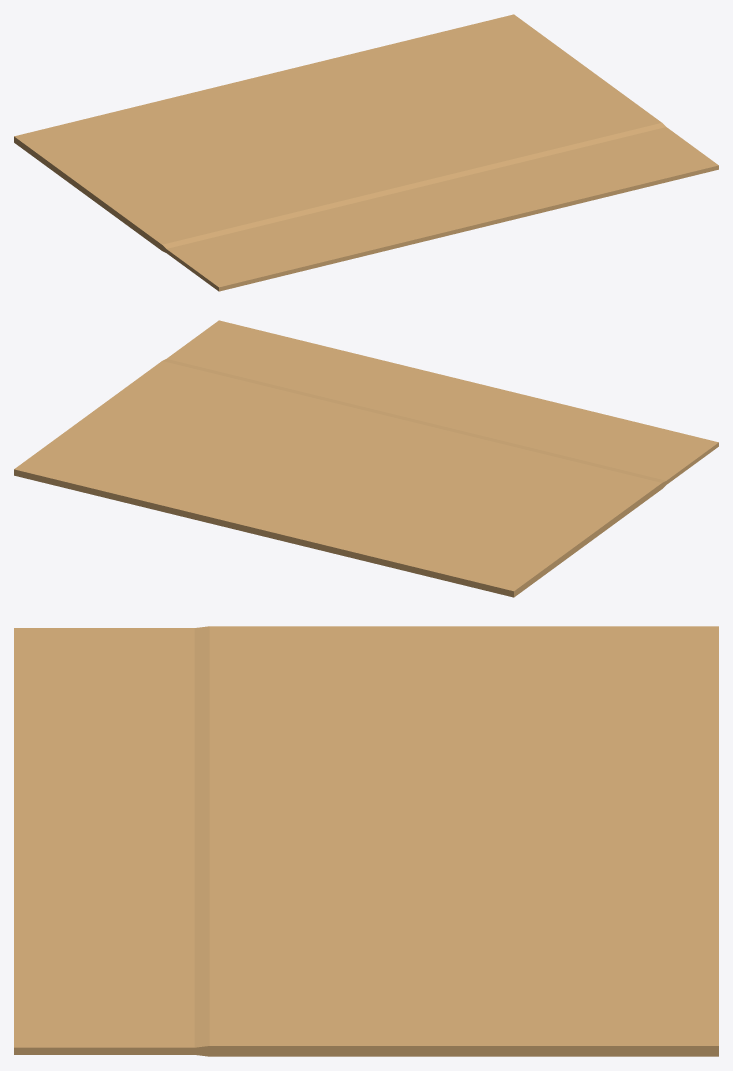
The model's file is liangbian.glb.
3 views of the same model, one above another, from view 1: azimuth 30°, elevation 25°; view 2: azimuth 150°, elevation 25°; view 3: azimuth 270°, elevation 25° (orthographic). The views are drawn at different scales.
Visible parts, largest first — view 1: 两边异型材.STL; view 2: 两边异型材.STL; view 3: 两边异型材.STL.
Boxes of the visible parts, left/top/right/bottom form: 两边异型材.STL: left=14, top=14, right=718, bottom=291; 两边异型材.STL: left=14, top=320, right=718, bottom=597; 两边异型材.STL: left=14, top=626, right=718, bottom=1056.
Bounding box in the file's own units: 100 × 1.2 × 71.
